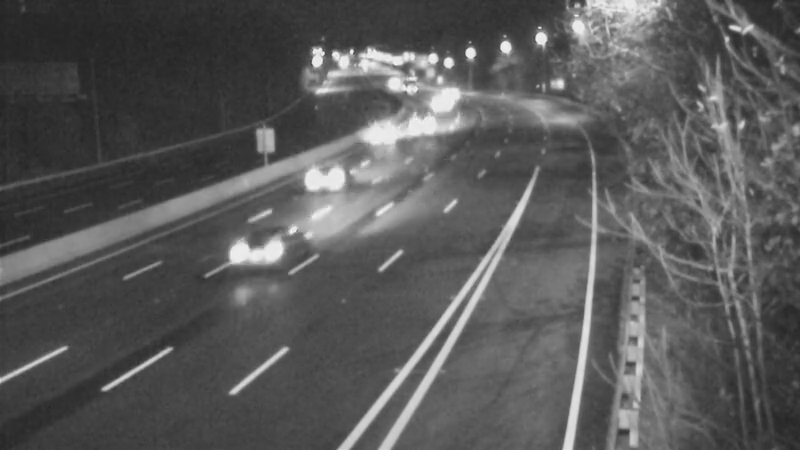vehicle: (287, 135, 367, 215), (207, 207, 287, 287), (366, 58, 416, 108), (383, 58, 433, 108), (423, 66, 473, 116), (411, 79, 461, 129), (397, 101, 447, 151), (358, 103, 408, 153)
